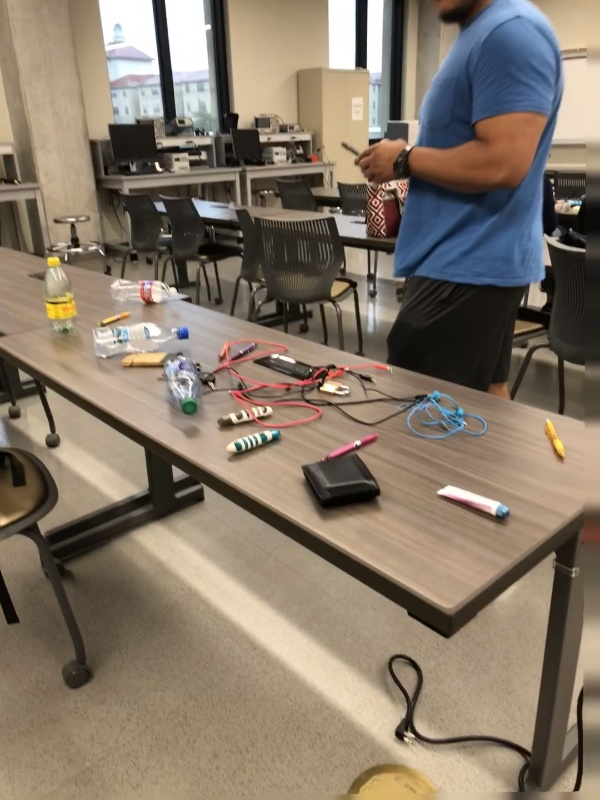bottle: (87, 319, 191, 355), (41, 250, 79, 338), (162, 351, 203, 416), (106, 277, 178, 305)
